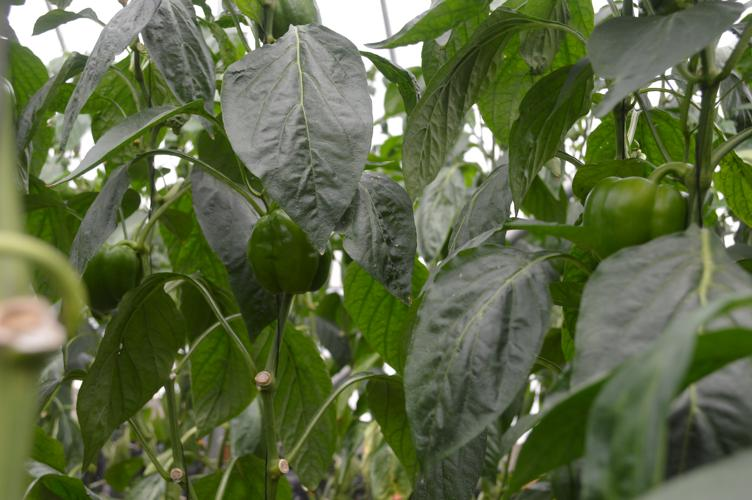BellPepper: (577, 175, 689, 257), (244, 210, 328, 297), (82, 240, 136, 308)
